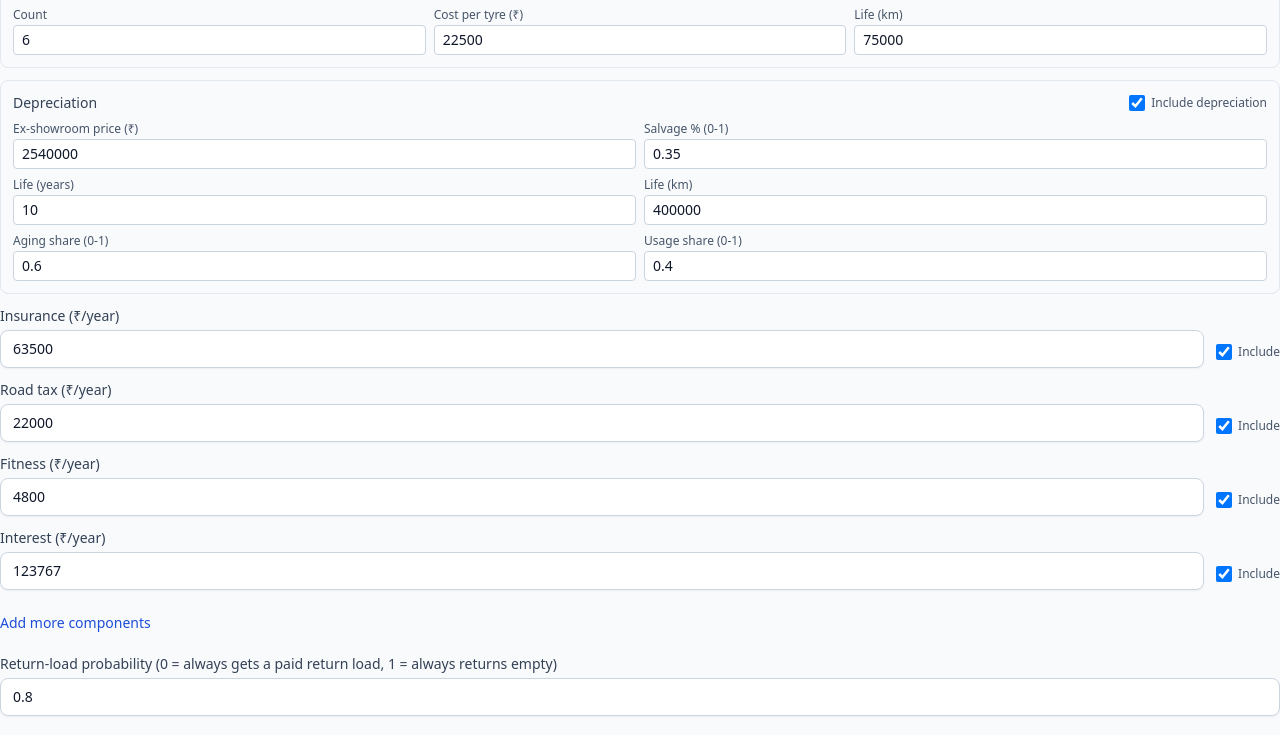
Test case: ConfigurationTab › hides off-by-default add-ons behind a collapsed section
(page scrolled)
Expected: the field labelled "gps" is not shown
Click the button "Add more components".
click(75, 623)  # box [0,613,151,633]
(page scrolled)
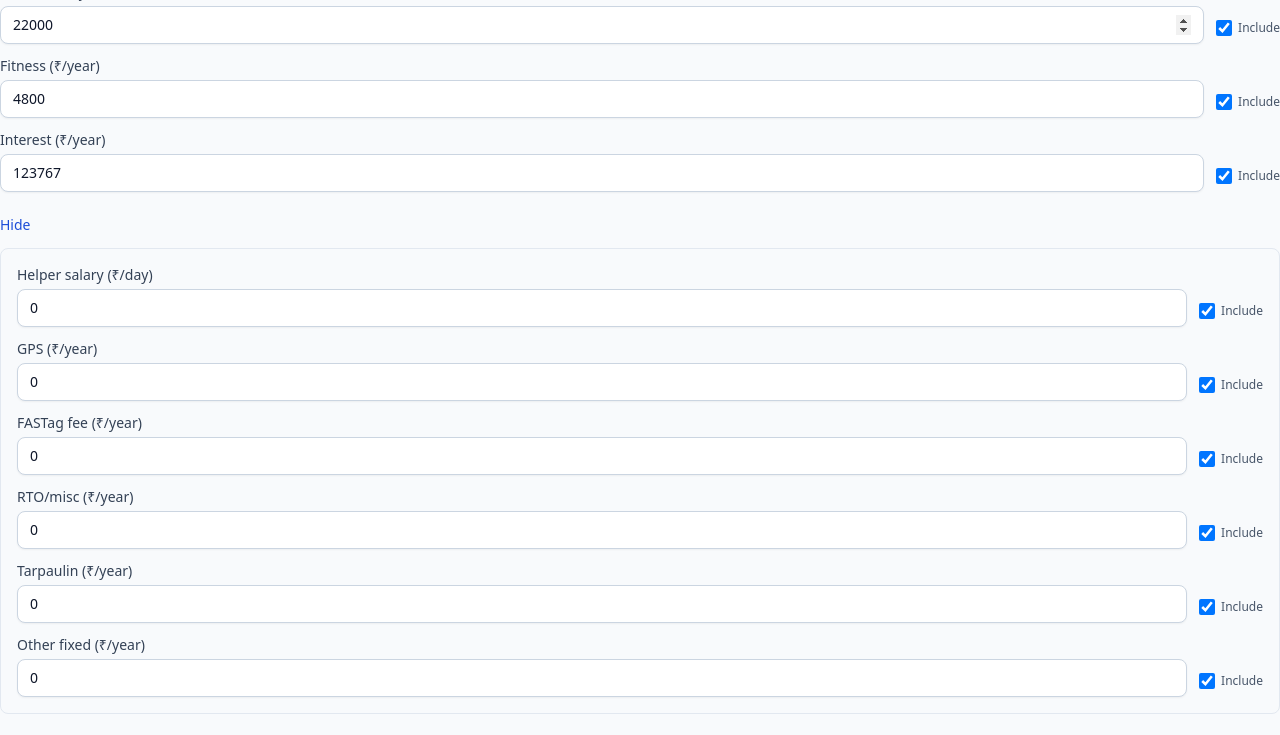
Result: the number field labelled "GPS (₹/year)" is shown at [17,363,1187,401]
